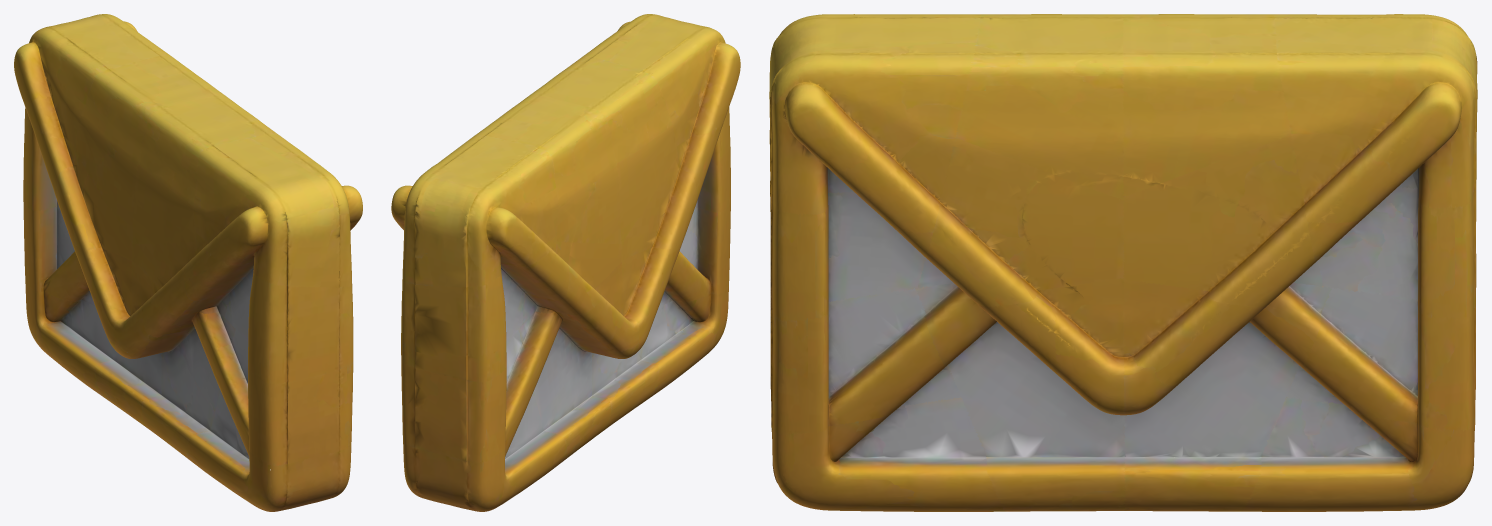
Rendered from mail-mobile.glb.
3 views of the same model, side by side, from view 1: azimuth 30°, elevation 25°; view 2: azimuth 150°, elevation 25°; view 3: azimuth 270°, elevation 25° (orthographic). The views are drawn at different scales.
Parts seen in each view (by area): view 1: tripo_node_227f24c5-f63f-4e45-99eb-a3524f798f83; view 2: tripo_node_227f24c5-f63f-4e45-99eb-a3524f798f83; view 3: tripo_node_227f24c5-f63f-4e45-99eb-a3524f798f83.
Boxes of the visible parts, x1,y1,x2,y2 form: tripo_node_227f24c5-f63f-4e45-99eb-a3524f798f83: (14, 14, 362, 511); tripo_node_227f24c5-f63f-4e45-99eb-a3524f798f83: (391, 14, 740, 511); tripo_node_227f24c5-f63f-4e45-99eb-a3524f798f83: (769, 14, 1477, 511).
Size of the model in its own units: 0.3301 by 0.6929 by 0.98.
1 material, 1 textured.
